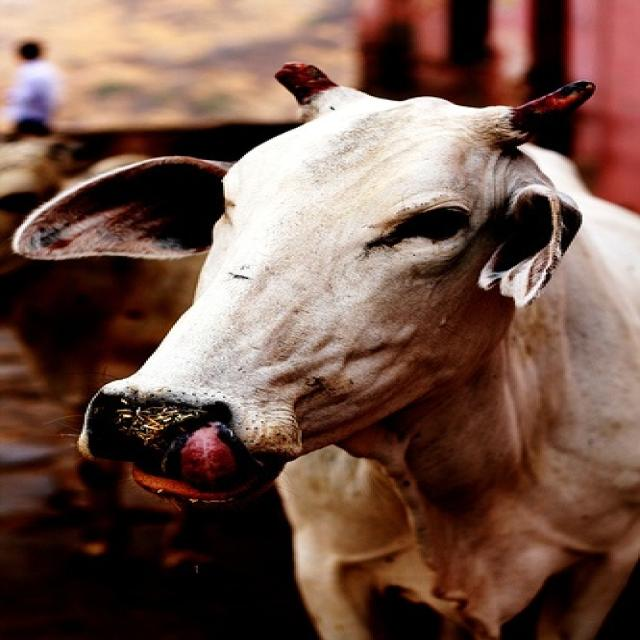cow: (14, 57, 638, 638)
